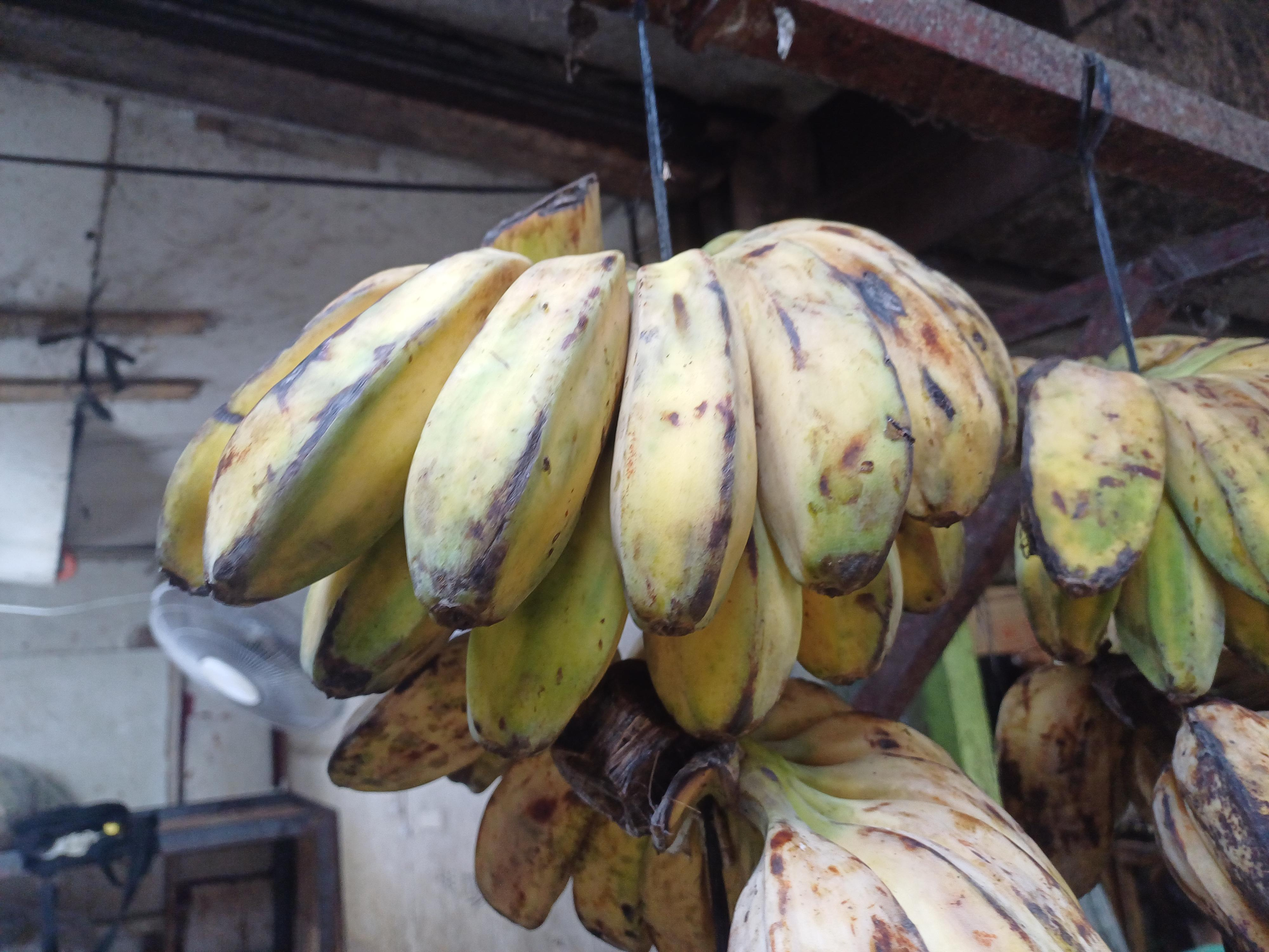ripe: (327, 629, 1112, 952), (992, 664, 1269, 952)
underripe: (160, 220, 1019, 759), (1013, 335, 1269, 706)
